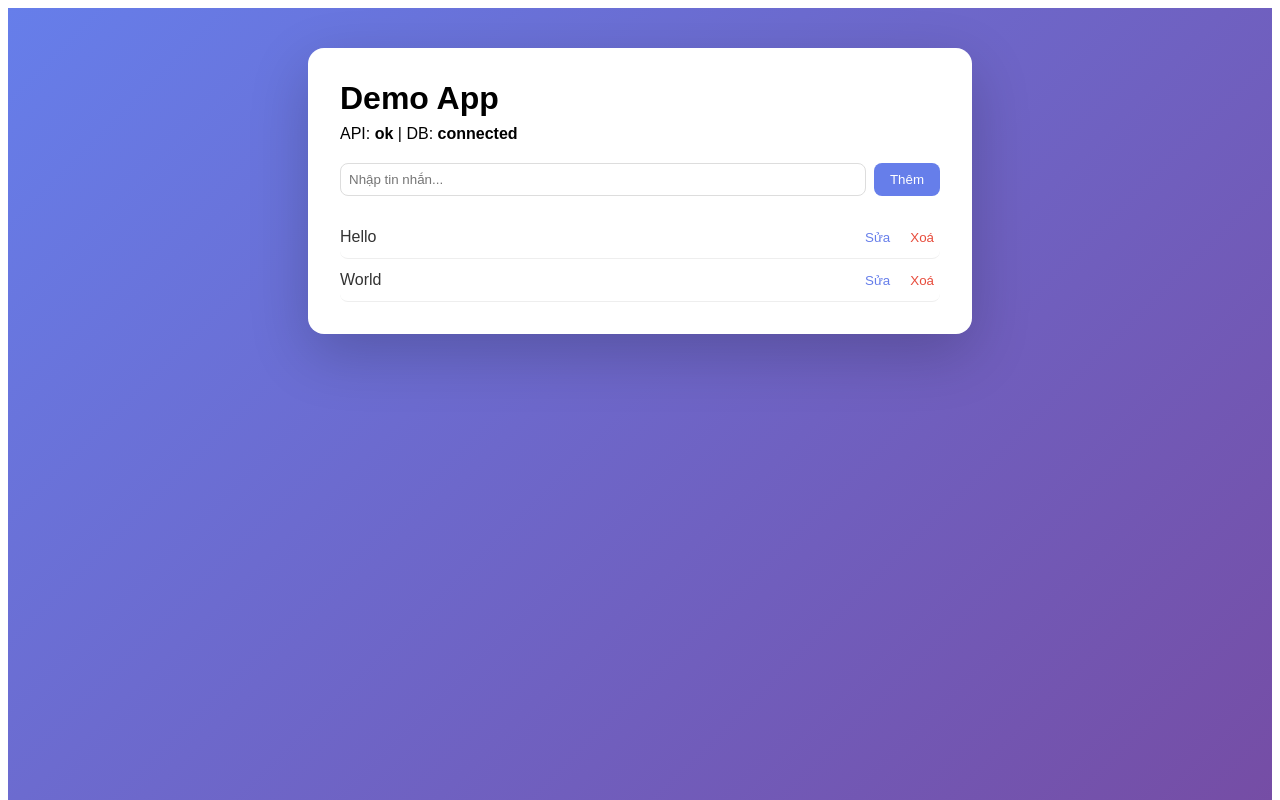
it: App - sửa message › hiển thị nội dung mới sau khi lưu thành công
Check: the text "Hello" is shown, box top-left (340, 228), bottom-right (376, 246)
Click the button "Sửa" in the row of "Hello" at {"x": 878, "y": 237}, box top-left (859, 228), bottom-right (896, 246)
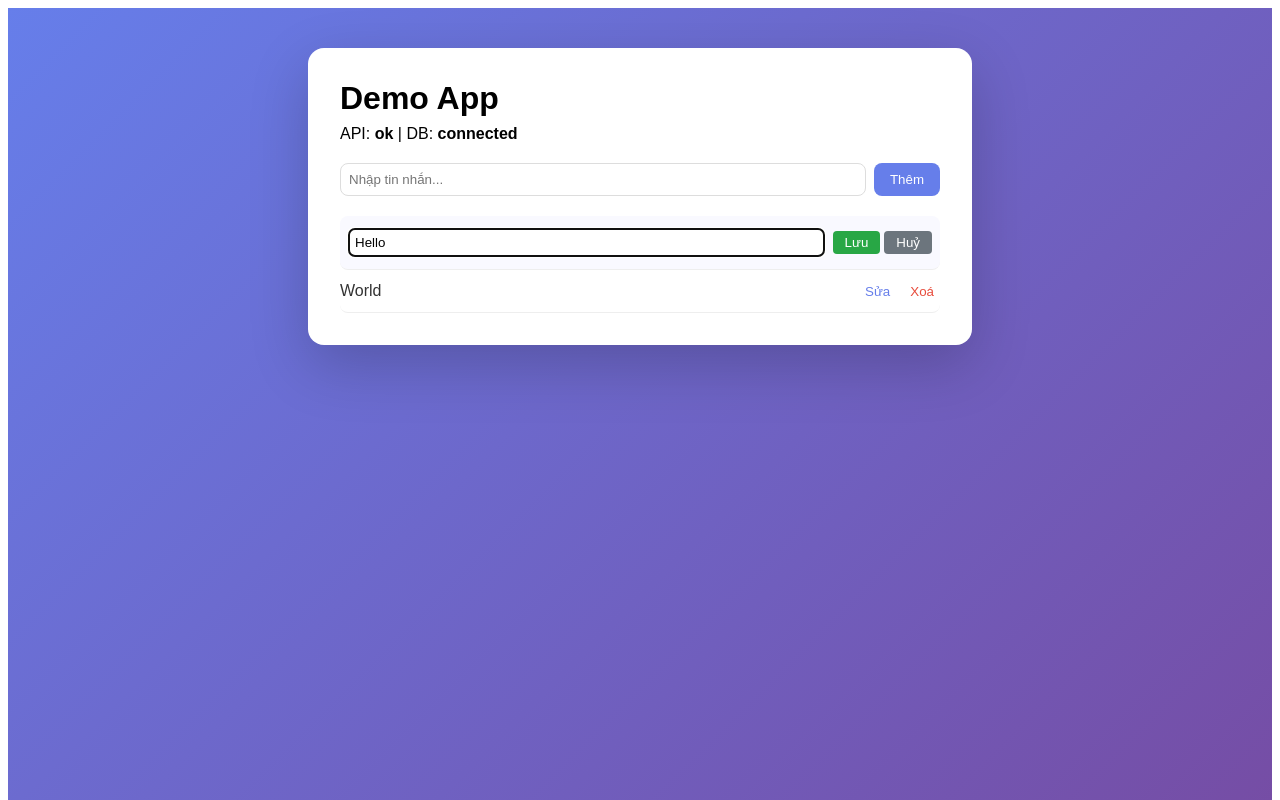
Replace the text in the field named "Chỉnh sửa tin nhắn" with "Hello edited" at {"x": 586, "y": 242}, box top-left (348, 228), bottom-right (824, 257)
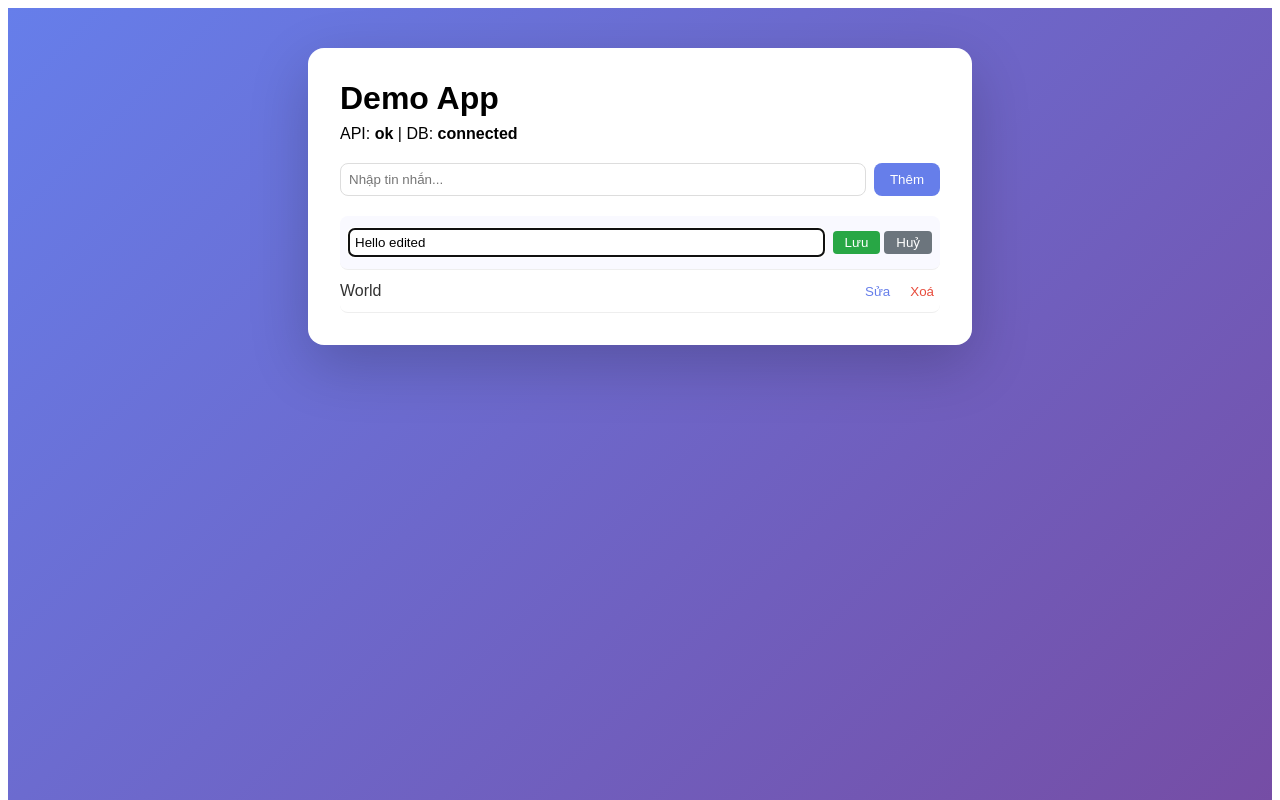
Click the button "Lưu" at {"x": 856, "y": 242}, box top-left (832, 231), bottom-right (880, 254)
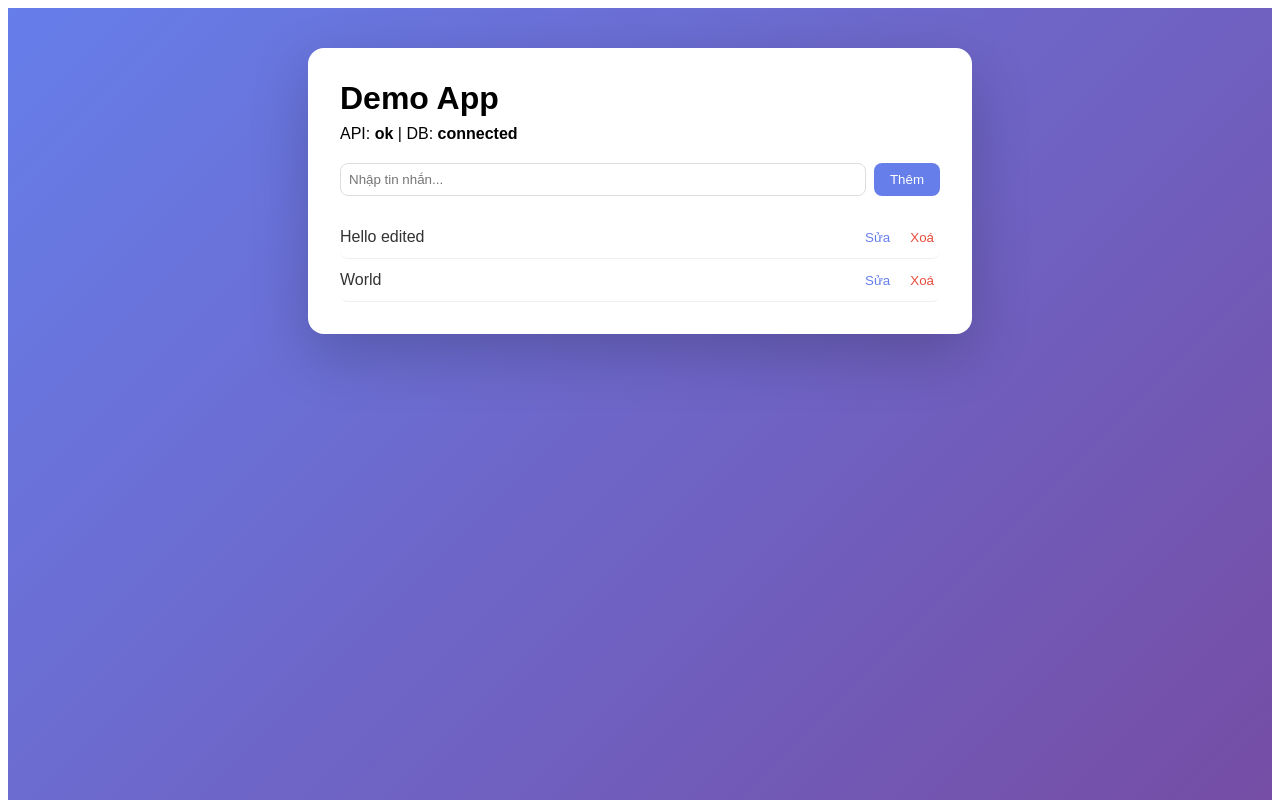
Check: the text "Hello edited" is shown, box top-left (340, 228), bottom-right (424, 246)
